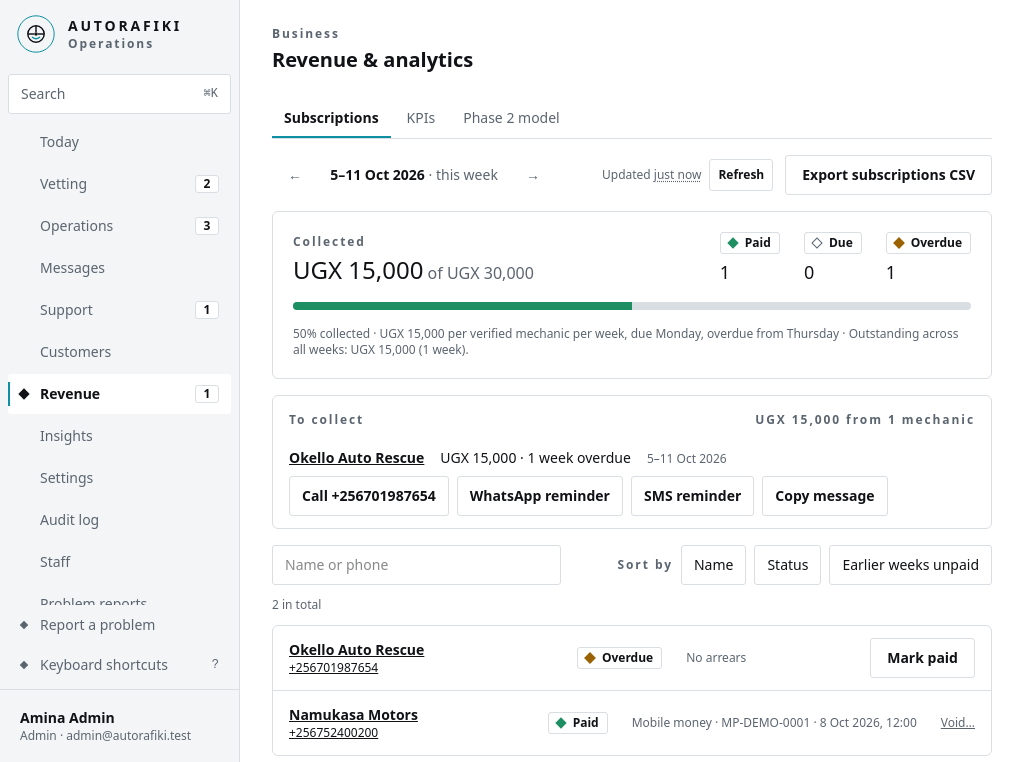
Test: subscription tracker › records a payment: moment, then paid and totals updated
Click the button "Mark paid": (923, 658) [870,638,975,678]
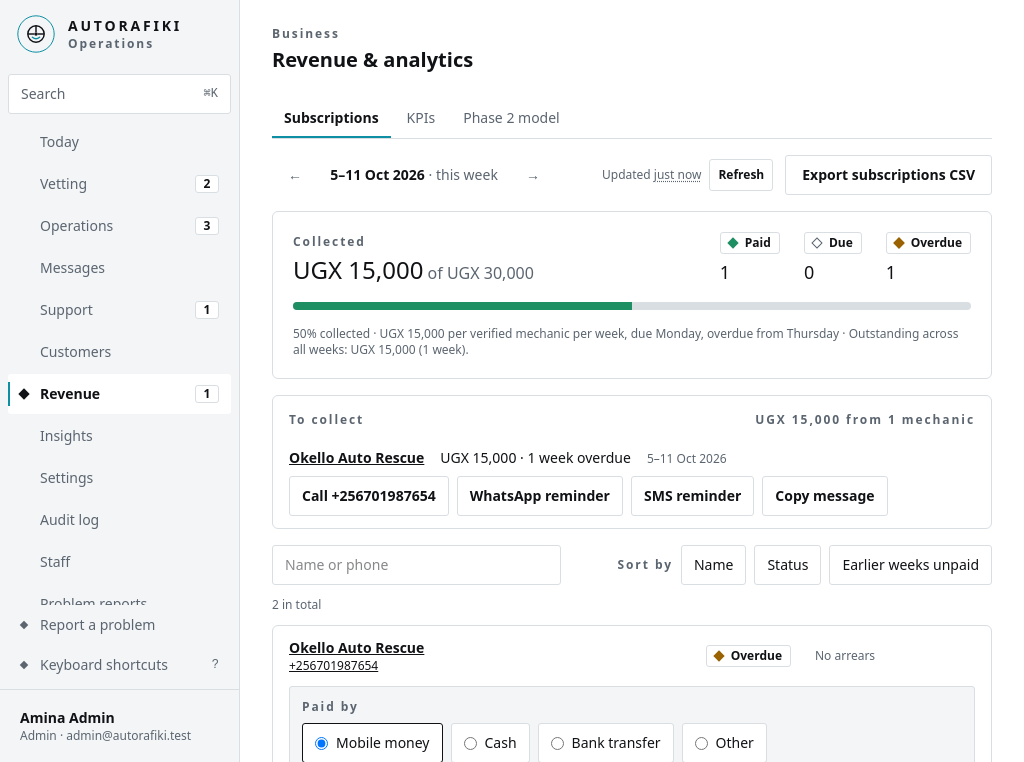
Click the radio button labelled "Cash": (470, 743) [464,736,476,750]
(page scrolled)
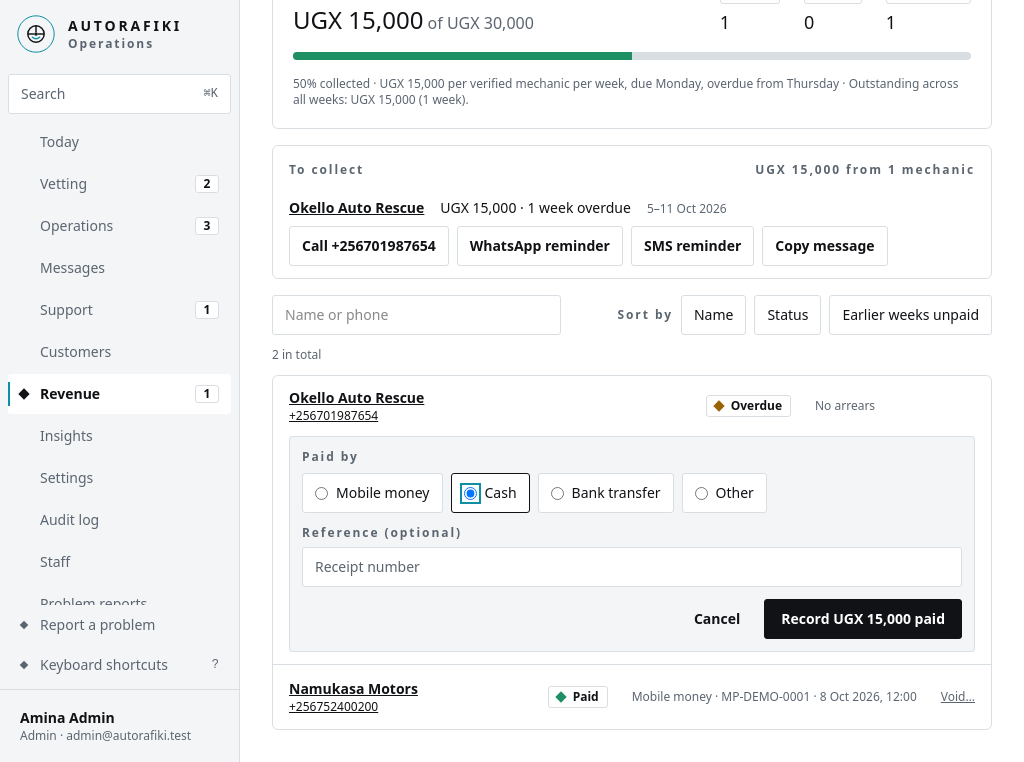
In the field labelled "Reference (optional)": (632, 567) [302,547,962,587], type "RCPT-77"
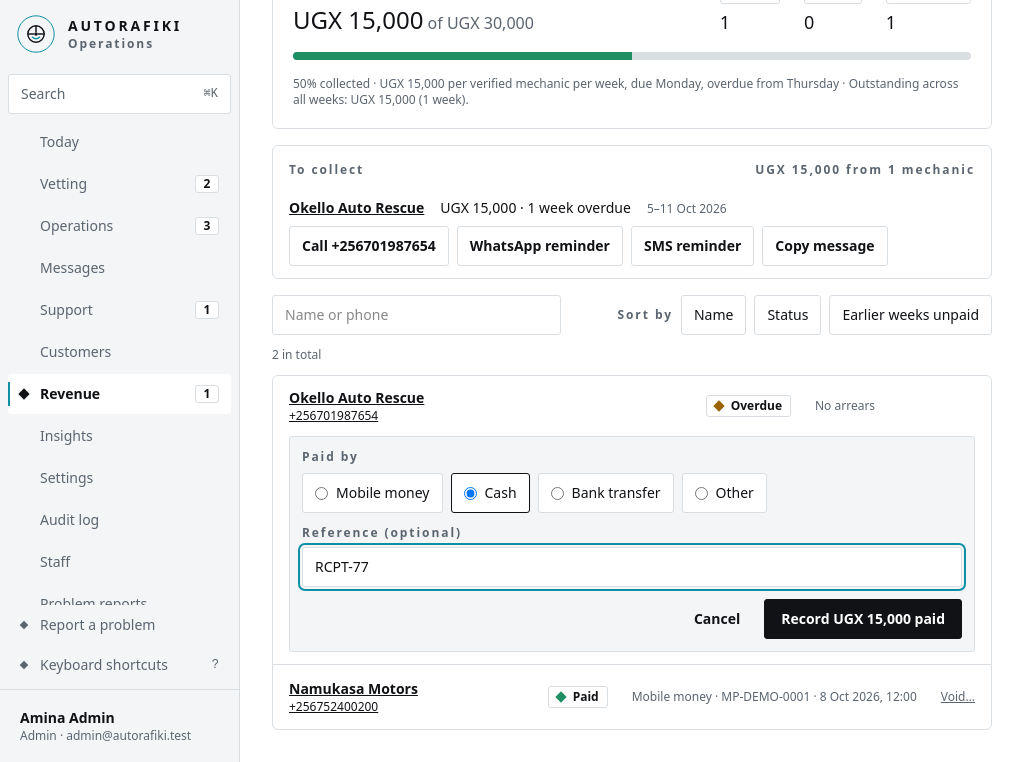
Click the button "Record UGX 15,000 paid": (863, 619) [764,599,962,639]
(page scrolled)
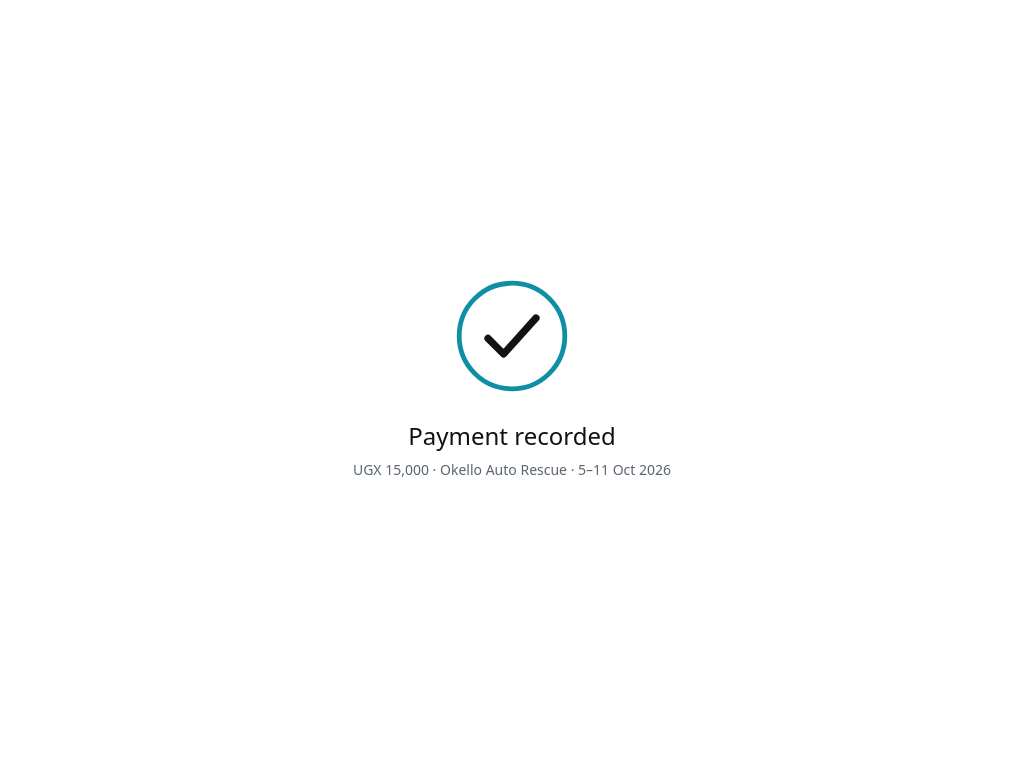
Expected: the button "Mark paid" is not shown
Expected: the text "Payment recorded" is shown, [408,420,616,452]
